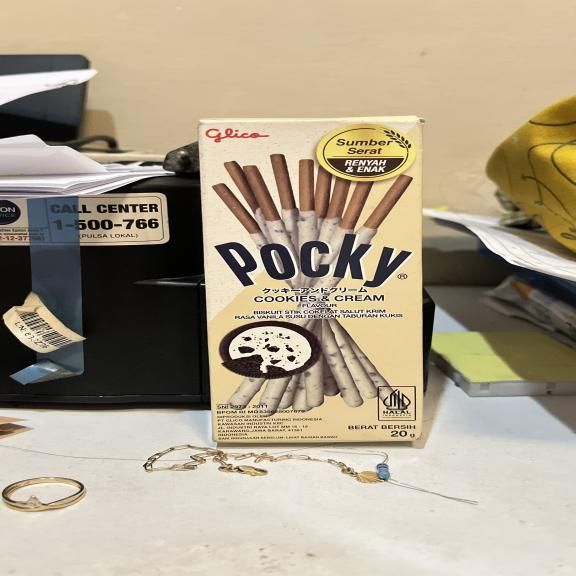Kertas: (198, 120, 427, 447)
